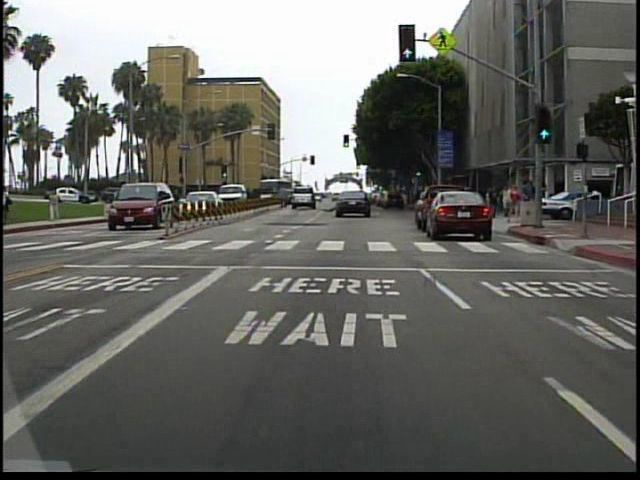person: (521, 177, 538, 221), (50, 186, 68, 224), (505, 184, 521, 225), (3, 186, 19, 226)
